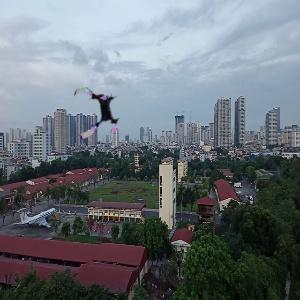drone: (68, 83, 126, 141)
